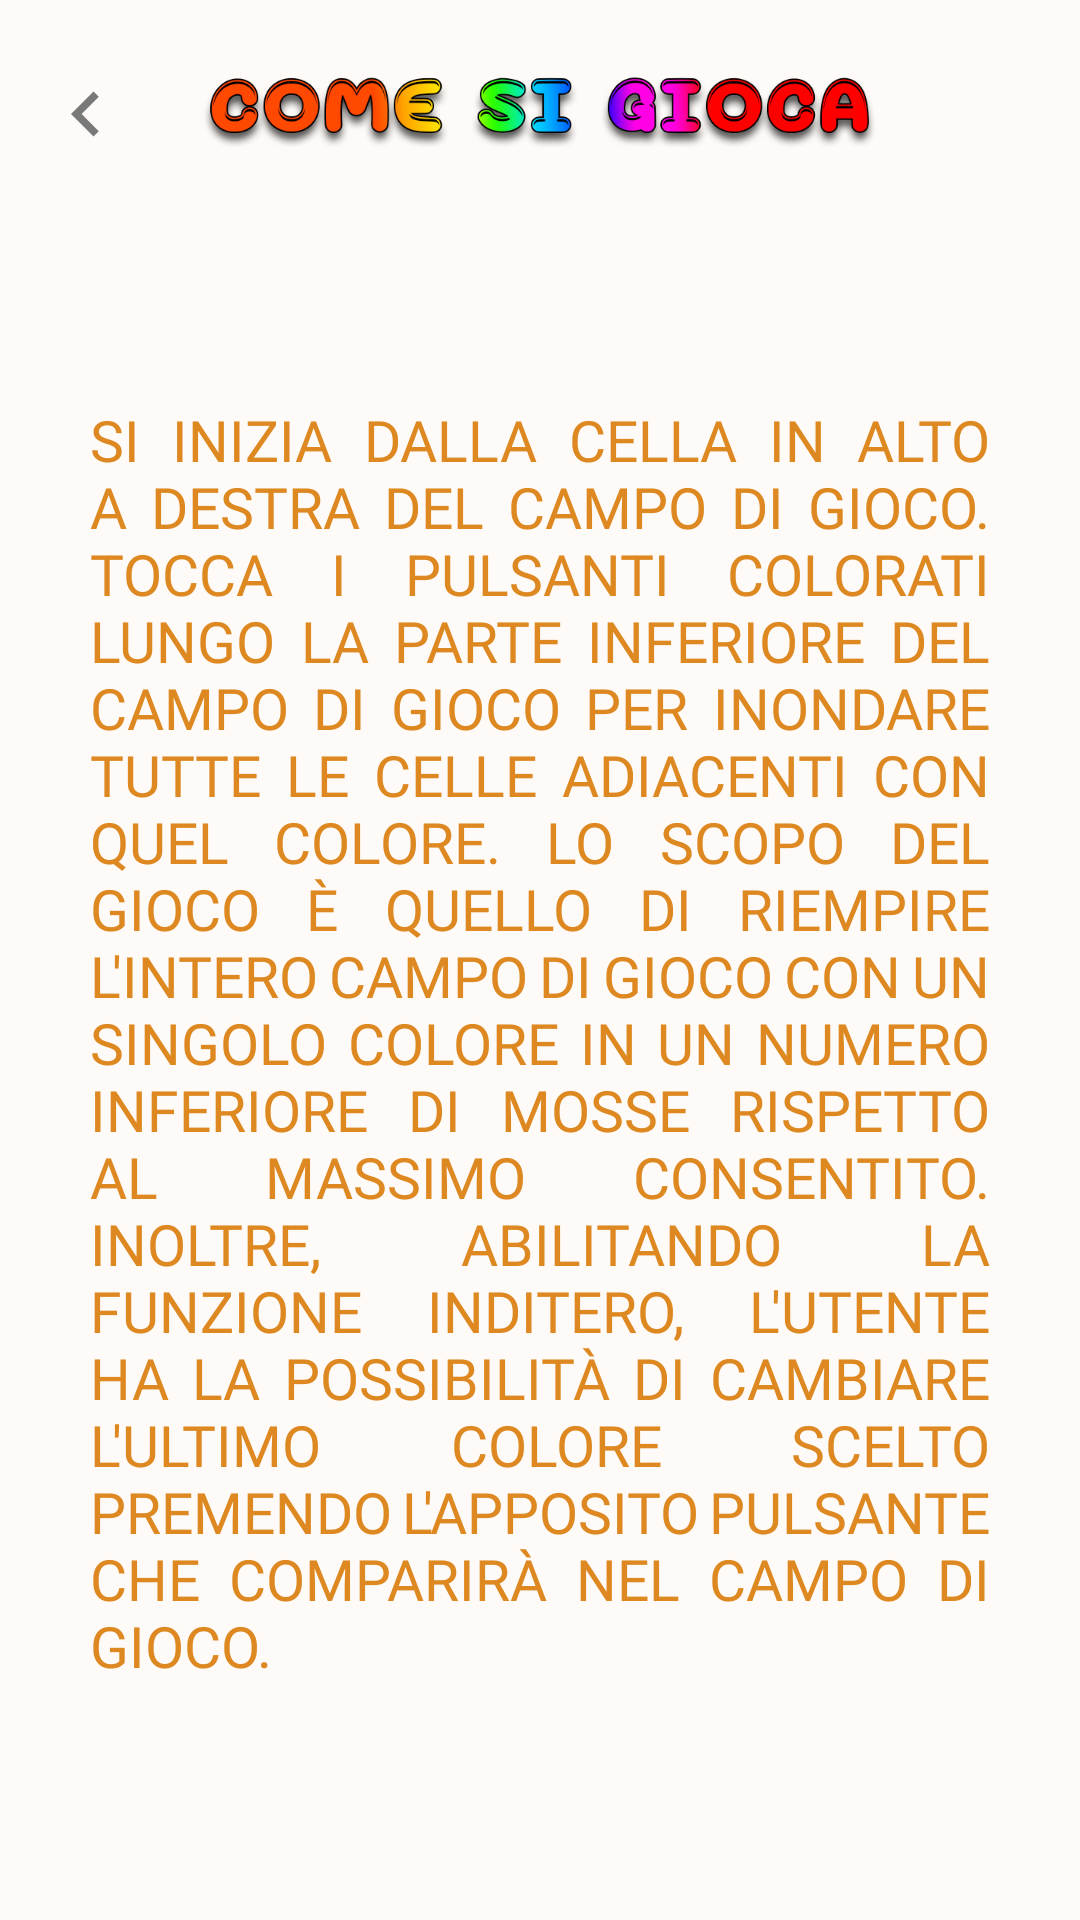

Icons on this 1080×1920 Android screen, each with its box as (x1, y1, x2, y2):
backbutton: (71, 91, 99, 137)
